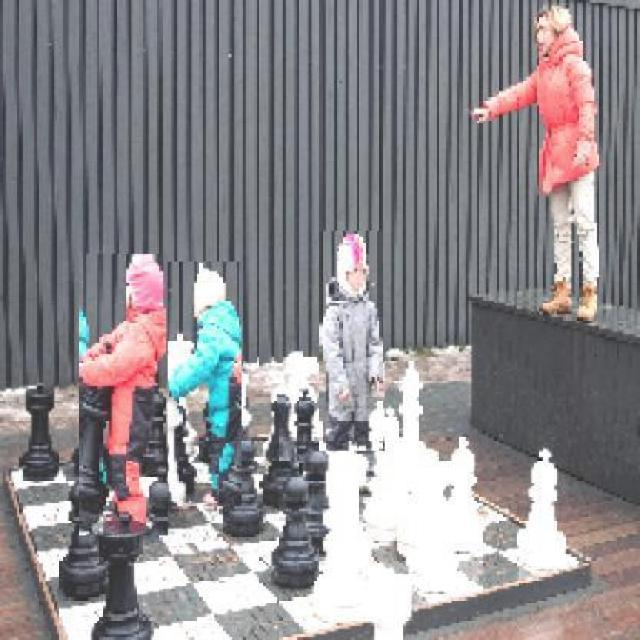child: (78, 254, 168, 537), (158, 262, 242, 508), (318, 231, 384, 452)
